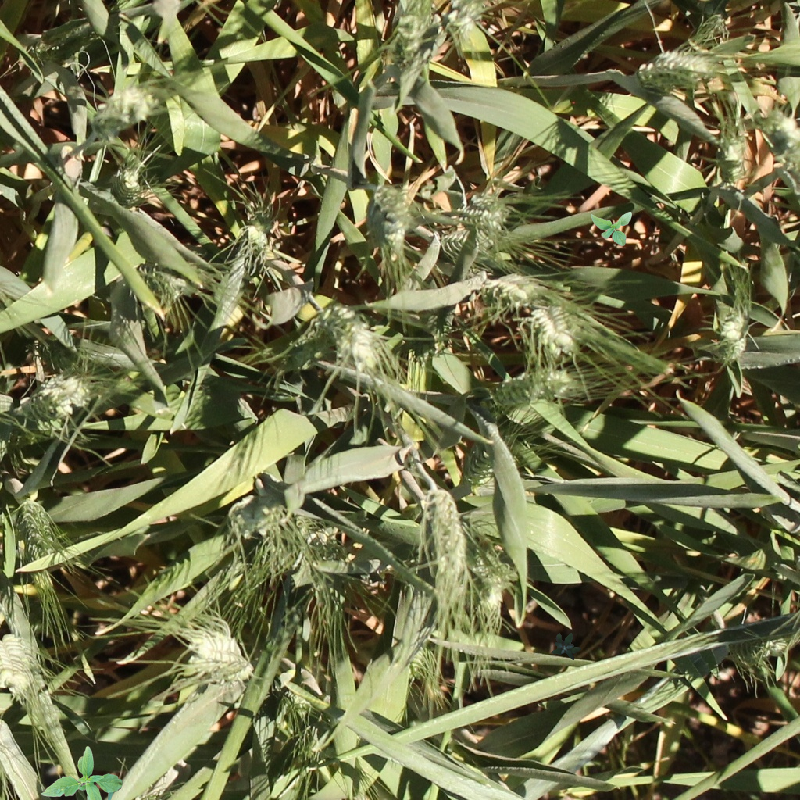spikelet: (323, 302, 385, 369), (424, 484, 469, 576), (185, 626, 253, 683), (634, 48, 718, 91), (490, 366, 574, 409), (370, 181, 416, 245), (527, 299, 581, 351), (16, 494, 58, 557), (97, 83, 157, 127), (35, 372, 92, 416), (760, 109, 799, 173), (1, 629, 39, 694), (238, 206, 280, 263), (472, 552, 515, 607), (485, 270, 542, 308), (460, 188, 510, 230), (712, 308, 750, 362), (139, 263, 188, 302), (730, 634, 786, 668), (716, 133, 748, 187), (461, 444, 496, 491), (109, 164, 146, 208), (251, 500, 289, 537), (445, 1, 490, 32), (405, 642, 435, 680)
weed: (41, 746, 123, 800), (546, 626, 587, 667), (591, 212, 632, 246)
